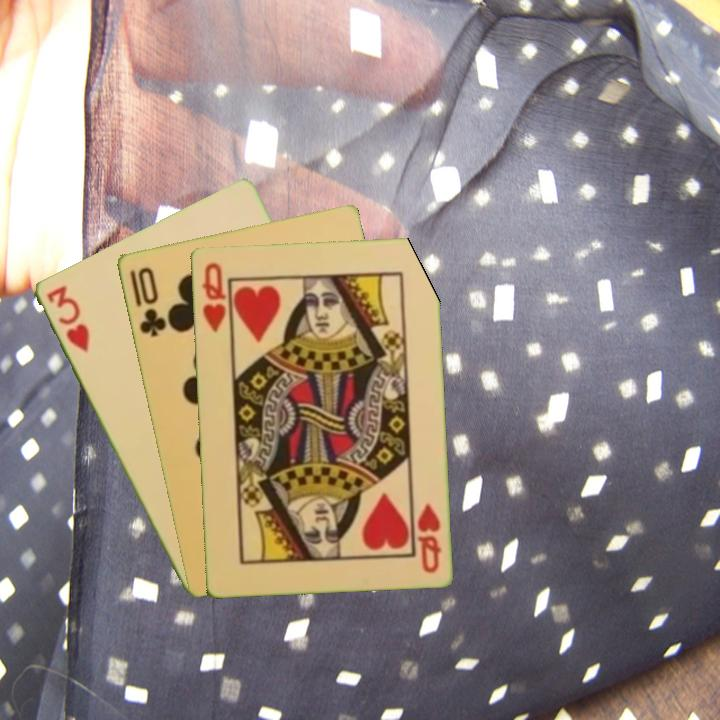10c: (126, 263, 169, 340)
3h: (42, 281, 92, 356)
Qh: (198, 258, 229, 335), (413, 500, 444, 576)
